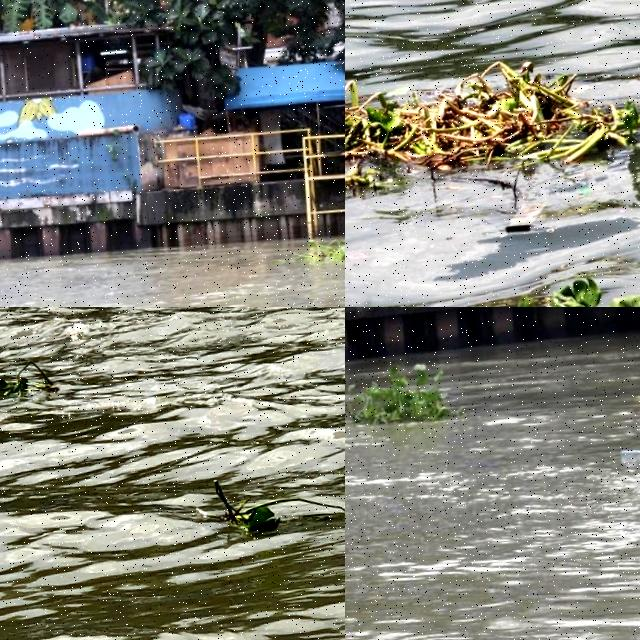water-hyacinth: (346, 26, 640, 202), (199, 466, 346, 542), (346, 356, 445, 428), (500, 276, 638, 307), (1, 356, 65, 403), (288, 240, 346, 268)
